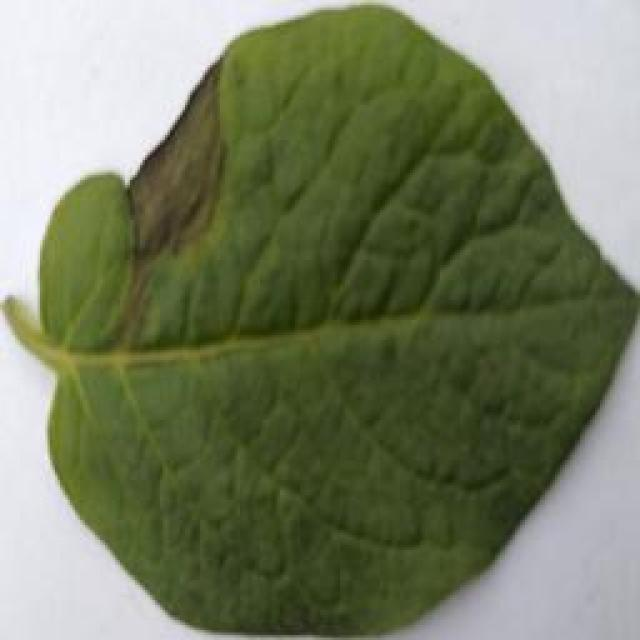Potato_Late_Blight: (8, 7, 624, 633)
